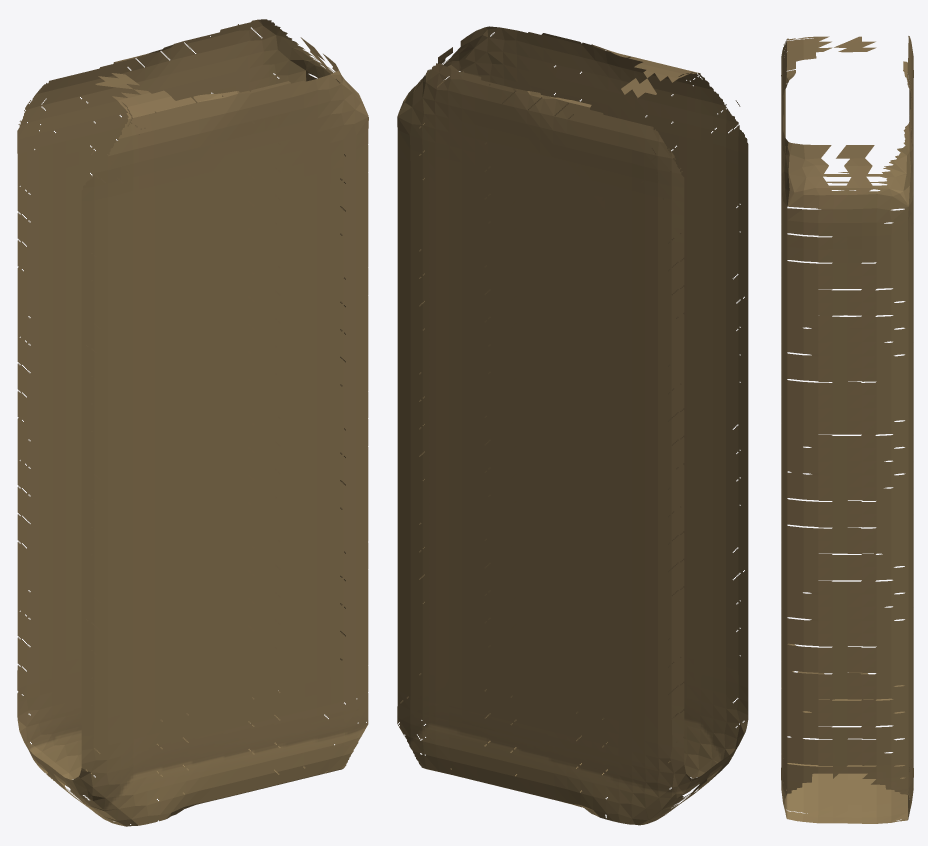
The picture shows the model from 3 angles, left to right: view 1: azimuth 30°, elevation 25°; view 2: azimuth 150°, elevation 25°; view 3: azimuth 270°, elevation 25°; orthographic projection. The views are drawn at different scales.
Visible parts, largest first — view 1: reconstruction; view 2: reconstruction; view 3: reconstruction.
Part boxes in pixels (bbox=[...]): reconstruction: bbox=[17, 19, 368, 826]; reconstruction: bbox=[397, 26, 748, 825]; reconstruction: bbox=[781, 36, 913, 823].
Bounding box in the file's own units: 0.4292 × 1 × 0.1677.
1 material, 1 textured.
